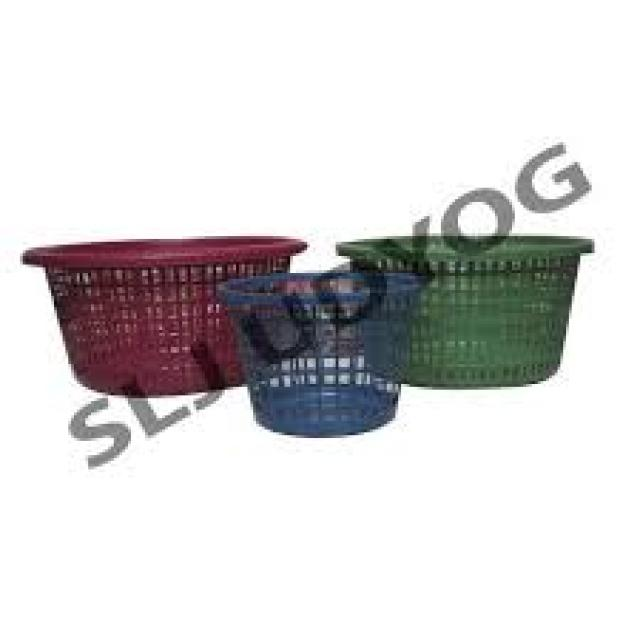basket: (22, 235, 312, 401), (336, 235, 597, 390), (215, 271, 421, 439)
